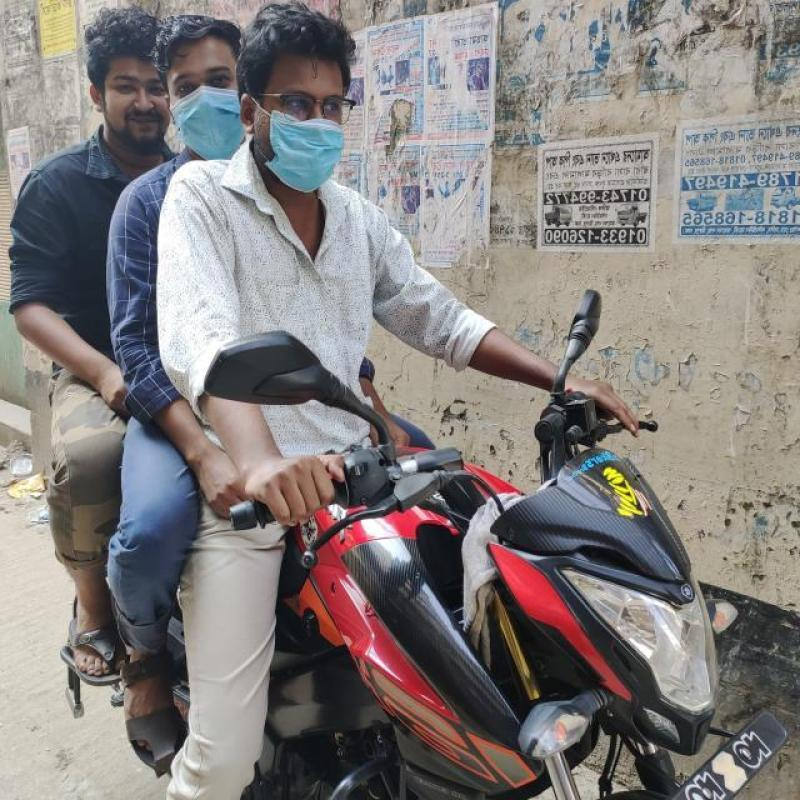nohelmet: (240, 11, 378, 200), (93, 0, 178, 154)
